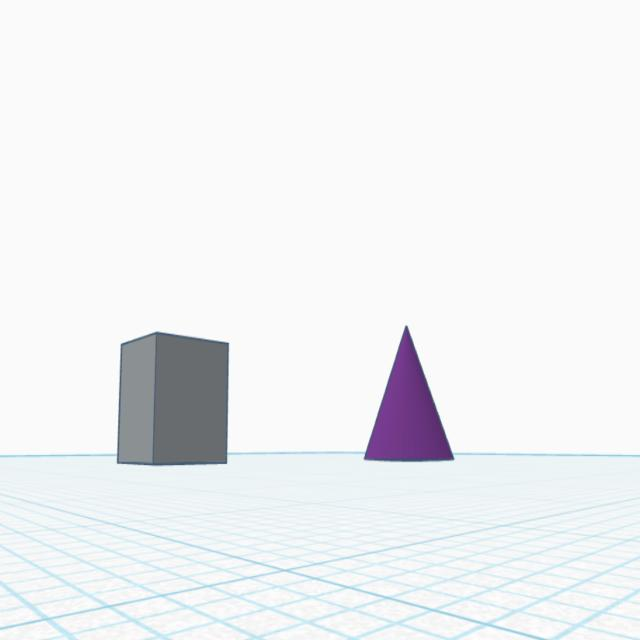cone: (361, 317, 455, 464)
cube: (114, 322, 232, 474)
